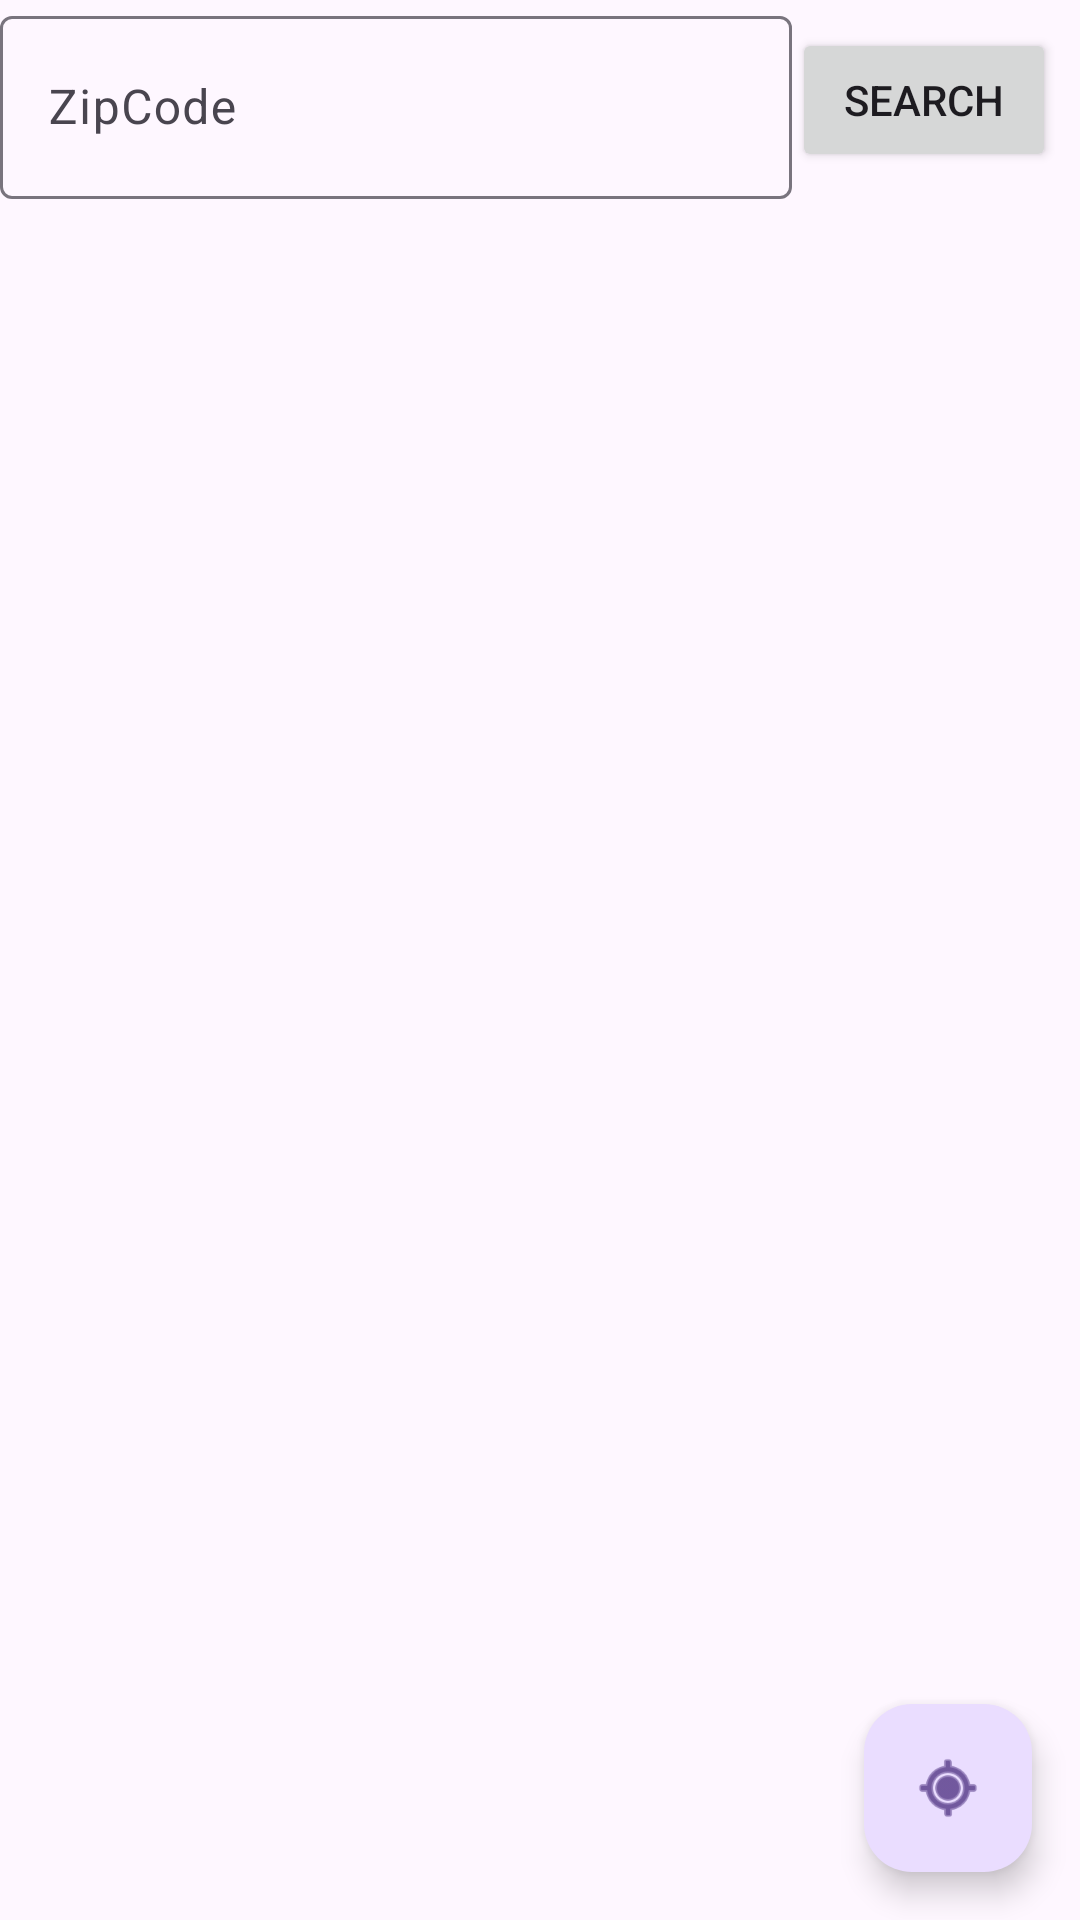

Locate icon controls on the screen. Image size 1080×1920, boxes as (x1, y1, x2, y2).
Get Location: (864, 1704, 1032, 1872)
